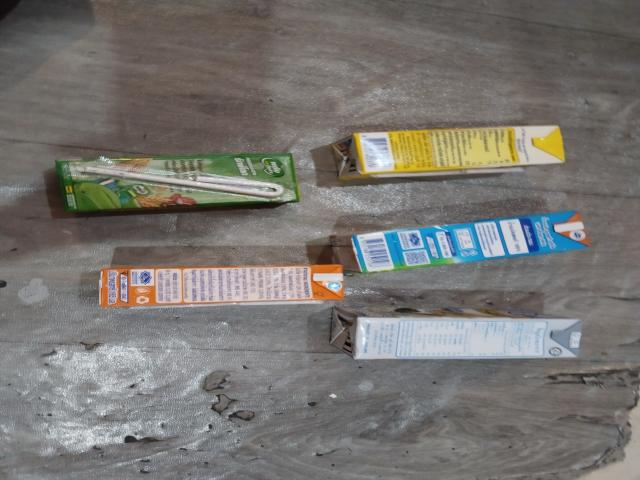drink_box: (335, 304, 597, 369), (36, 153, 299, 216), (333, 217, 607, 273), (325, 126, 580, 184), (88, 259, 343, 317)
